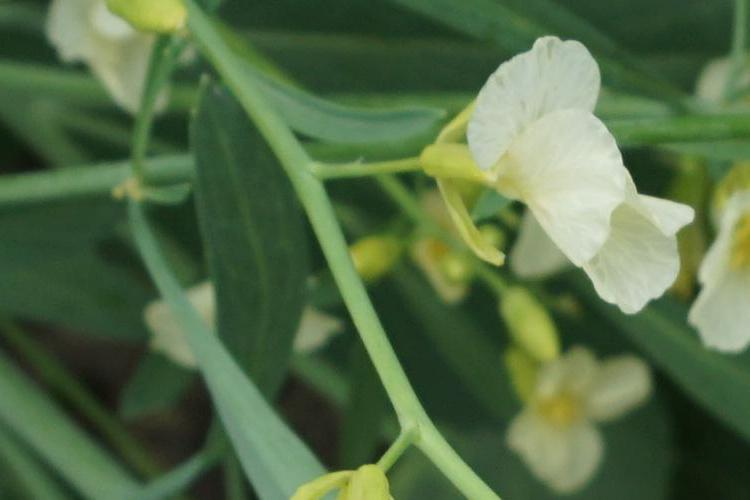bud: (494, 285, 572, 369)
white: (433, 48, 668, 309), (484, 323, 659, 494), (676, 180, 749, 375)
